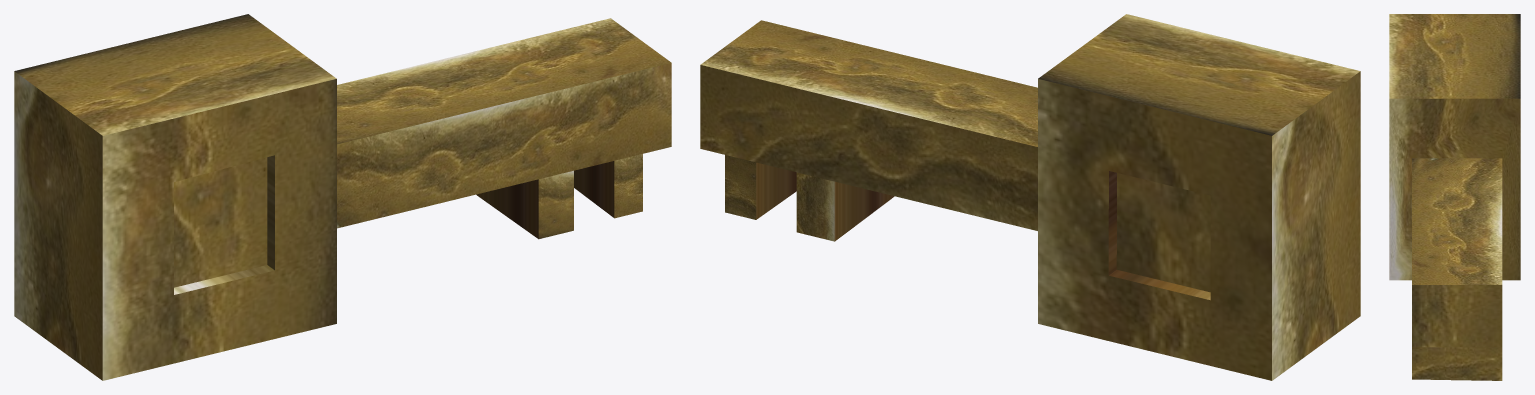
The model's file is key.glb.
The picture shows the model from 3 angles, left to right: view 1: azimuth 30°, elevation 25°; view 2: azimuth 150°, elevation 25°; view 3: azimuth 270°, elevation 25°; orthographic projection. The views are drawn at different scales.
Parts seen in each view (by area): view 1: key; view 2: key; view 3: key.
Boxes of the visible parts, x1=… form: key: x1=14, y1=14, x2=671, y2=380; key: x1=700, y1=14, x2=1360, y2=380; key: x1=1389, y1=14, x2=1520, y2=380.
Size of the model in its own units: 4.99 by 2 by 1.31.
Materials: 1 (1 with a texture image).
